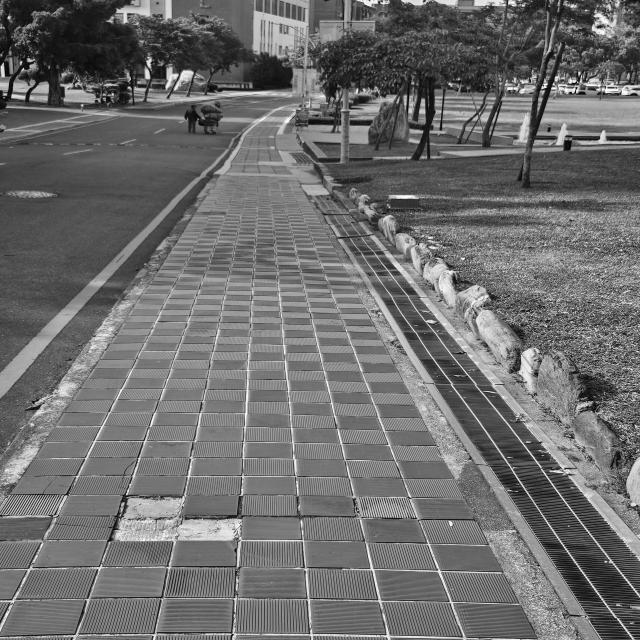Road-Object: (0, 108, 535, 640), (0, 91, 299, 448)
people: (184, 104, 200, 133)
